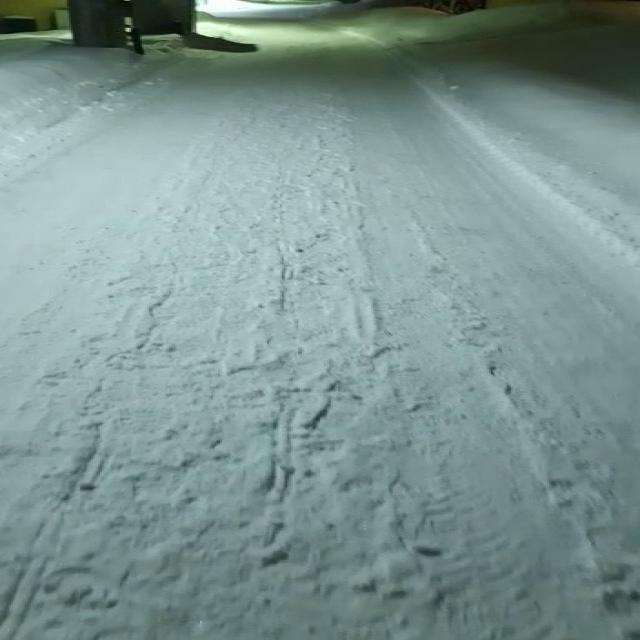path: (0, 0, 640, 640)
